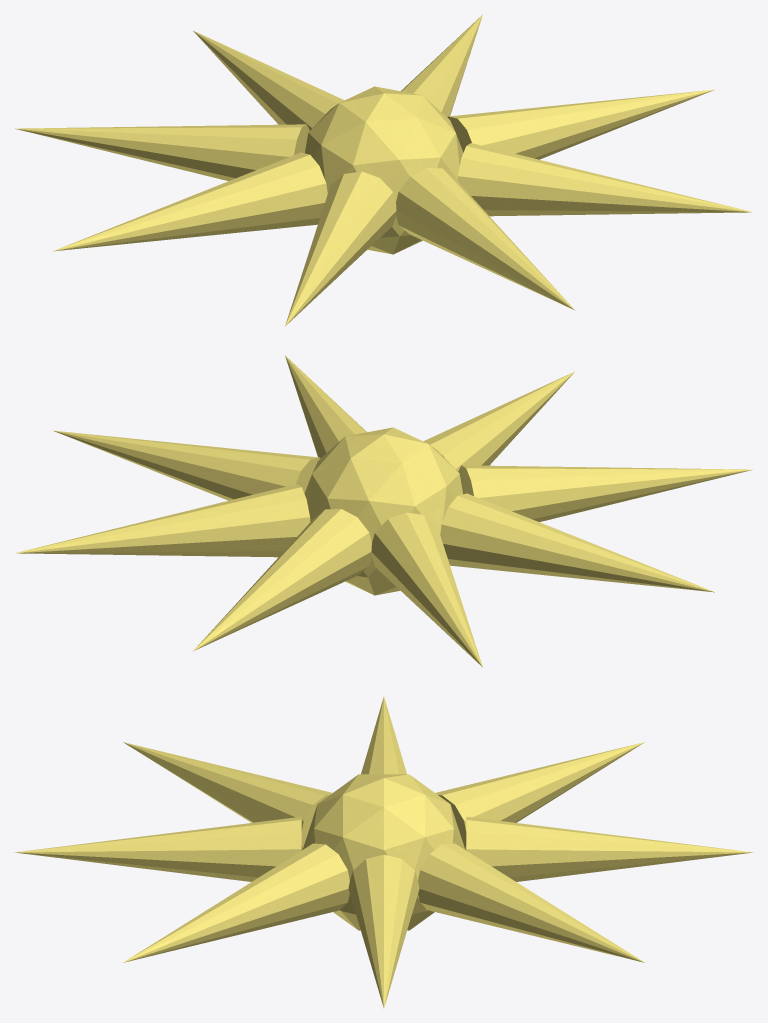
Rendered from critical-hit-burst.glb.
3 views of the same model, one above another, from view 1: azimuth 30°, elevation 25°; view 2: azimuth 150°, elevation 25°; view 3: azimuth 270°, elevation 25° (orthographic). The views are drawn at different scales.
Visible parts, largest first — view 1: critical-core, critical-spike-4, critical-spike-7, critical-spike-3, critical-spike-6, critical-spike-0, critical-spike-5, critical-spike-2, critical-spike-1; view 2: critical-core, critical-spike-4, critical-spike-1, critical-spike-5, critical-spike-2, critical-spike-0, critical-spike-3, critical-spike-6, critical-spike-7; view 3: critical-core, critical-spike-2, critical-spike-6, critical-spike-1, critical-spike-7, critical-spike-0, critical-spike-3, critical-spike-5, critical-spike-4.
Part boxes in pixels (box(x1,y1,x2,y2)): critical-core: box(305, 86, 463, 254); critical-spike-4: box(53, 152, 327, 251); critical-spike-7: box(457, 143, 752, 216); critical-spike-3: box(15, 124, 309, 180); critical-spike-6: box(396, 168, 574, 310); critical-spike-0: box(447, 89, 714, 159); critical-spike-5: box(285, 171, 396, 326); critical-spike-2: box(193, 30, 344, 130); critical-spike-1: box(401, 14, 482, 117); critical-core: box(304, 427, 462, 595); critical-spike-4: box(440, 493, 714, 592); critical-spike-1: box(15, 484, 310, 557); critical-spike-5: box(458, 465, 752, 521); critical-spike-2: box(193, 509, 371, 651); critical-spike-0: box(53, 430, 320, 500); critical-spike-3: box(371, 512, 482, 667); critical-spike-6: box(423, 371, 574, 471); critical-spike-7: box(285, 355, 366, 458); critical-core: box(302, 774, 465, 930); critical-spike-2: box(466, 816, 753, 881); critical-spike-6: box(14, 816, 301, 881); critical-spike-1: box(418, 843, 644, 962); critical-spike-7: box(123, 843, 349, 962); critical-spike-0: box(348, 854, 419, 1007); critical-spike-3: box(435, 742, 644, 850); critical-spike-5: box(123, 742, 332, 850); critical-spike-4: box(361, 697, 406, 774).
Bounding box in the file's own units: 0.72 × 0.16 × 0.72.
1 material, 1 textured.
